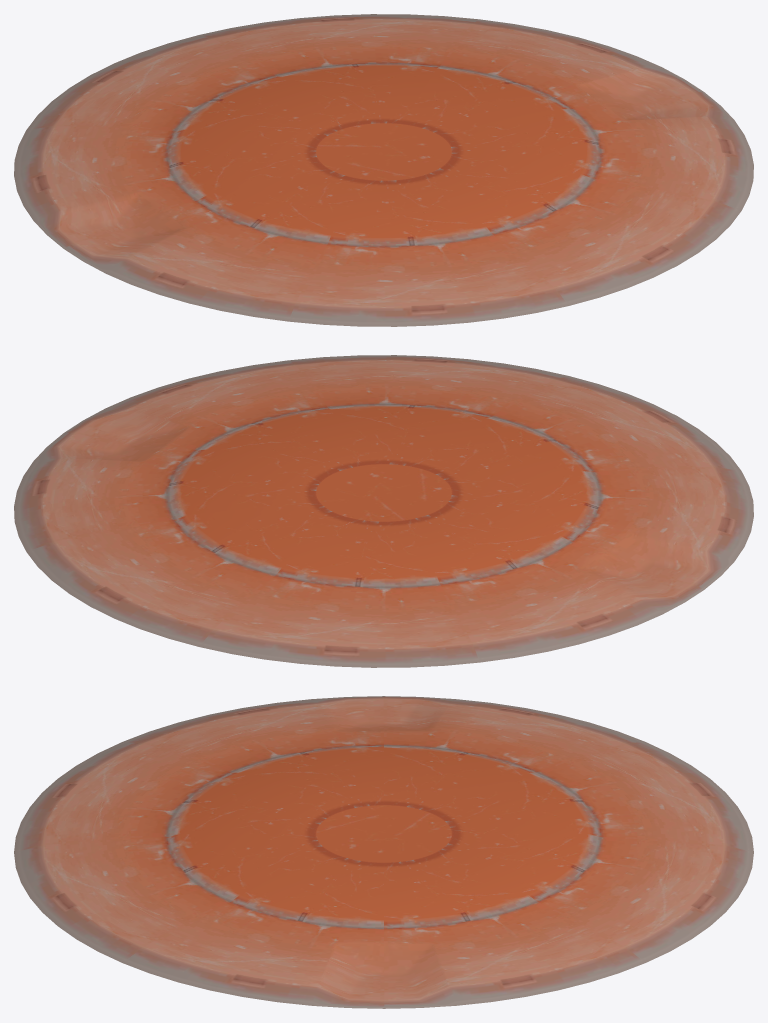
File: Demo_feiji02.FBX
3 renders of one model, top to bottom at view 1: azimuth 30°, elevation 25°; view 2: azimuth 150°, elevation 25°; view 3: azimuth 270°, elevation 25°, orthographic.
Parts seen in each view (by area): view 1: Demo_feiji02; view 2: Demo_feiji02; view 3: Demo_feiji02.
Boxes of the visible parts, x1,y1,x2,y2 form: Demo_feiji02: (14,14,753,326); Demo_feiji02: (14,355,753,667); Demo_feiji02: (14,696,753,1008).
Size of the model in its own units: 8.71 by 0.2405 by 8.71.
